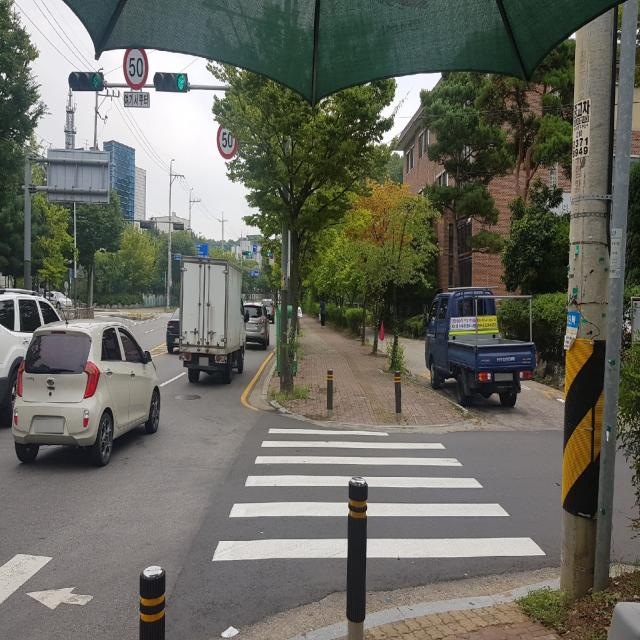횡단보도: (211, 427, 548, 563)
